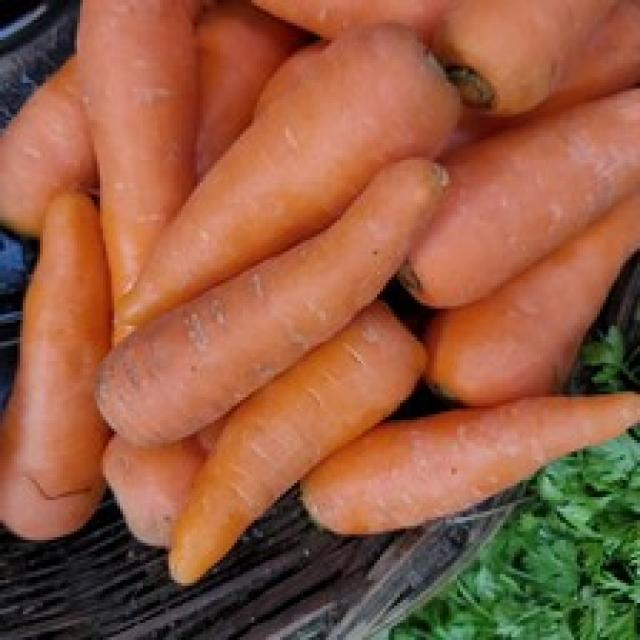Fresh_Carrot: (97, 21, 451, 337), (97, 156, 446, 401), (300, 403, 640, 527)
